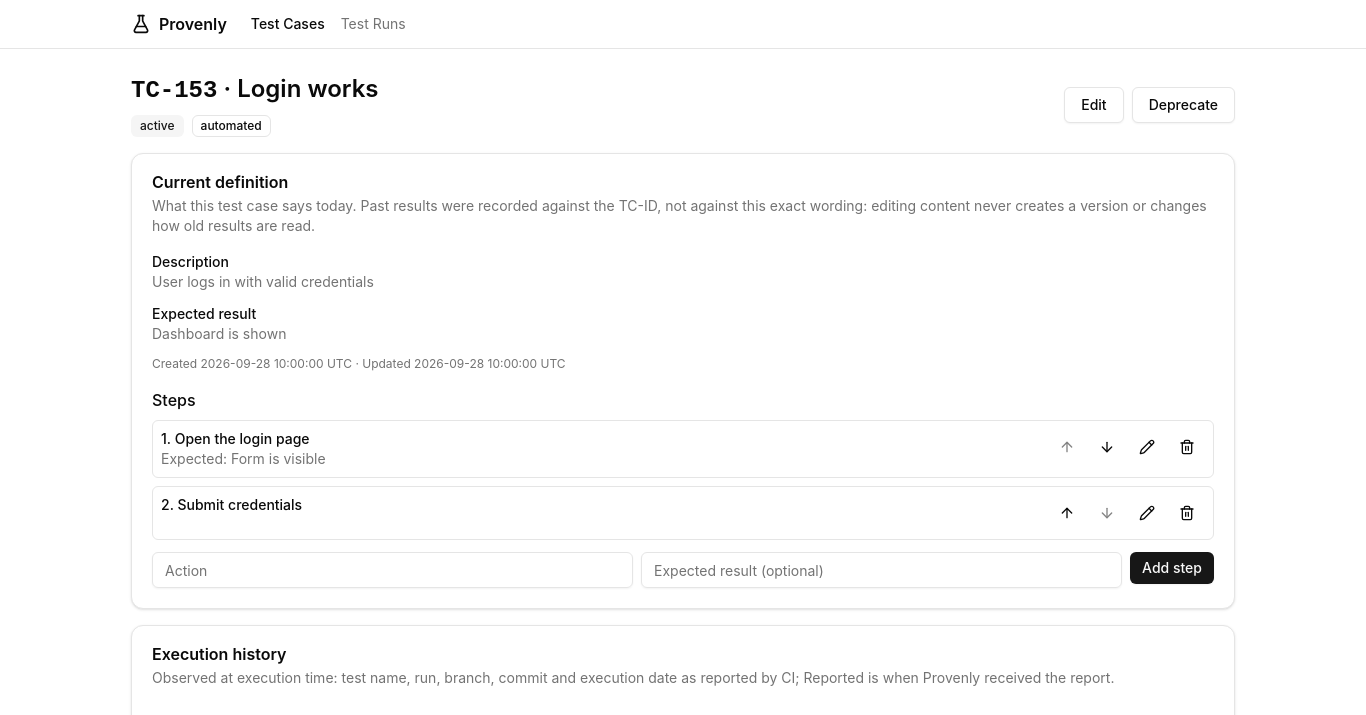
FE-INT-004 test case detail and edit › FE-INT-004 edits content without changing the TC-ID
Click the button "Edit": click(1094, 105) [1064,87,1124,123]
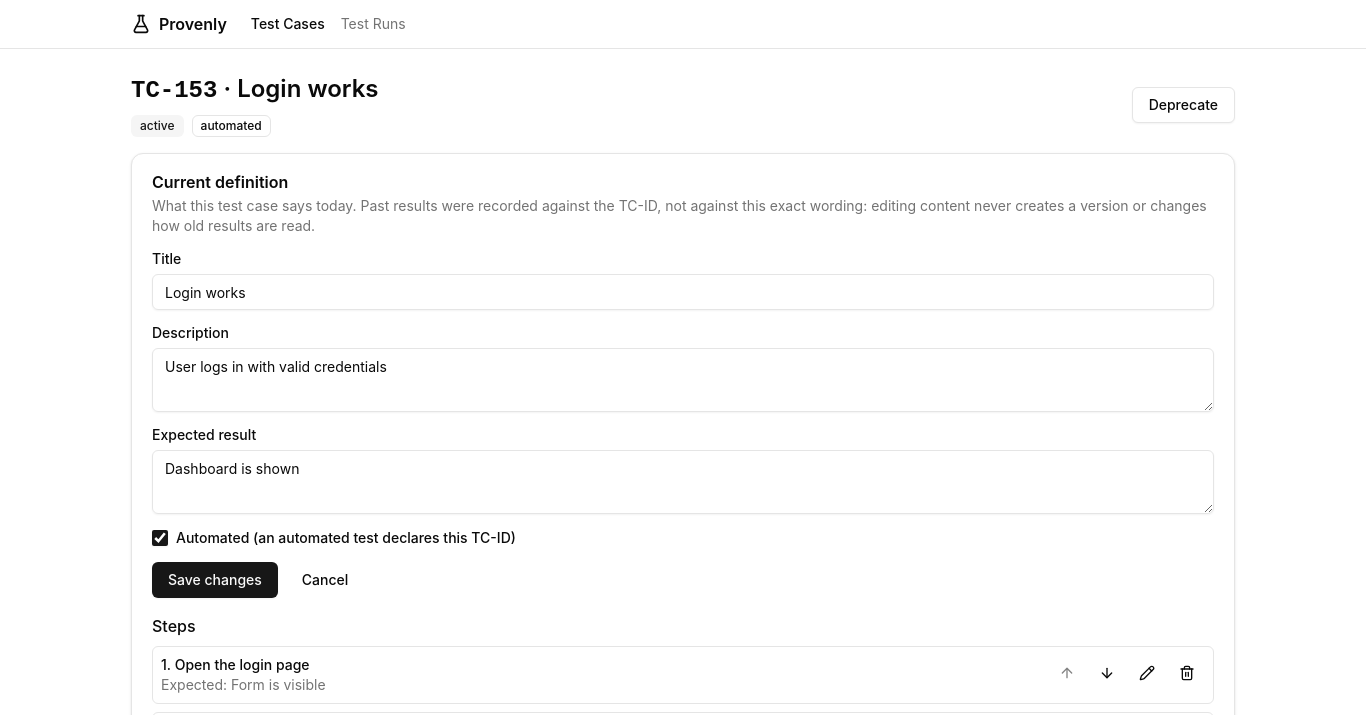
Replace the text in the field labelled "Title" with "Login v2": (683, 292) [152,274,1214,310]
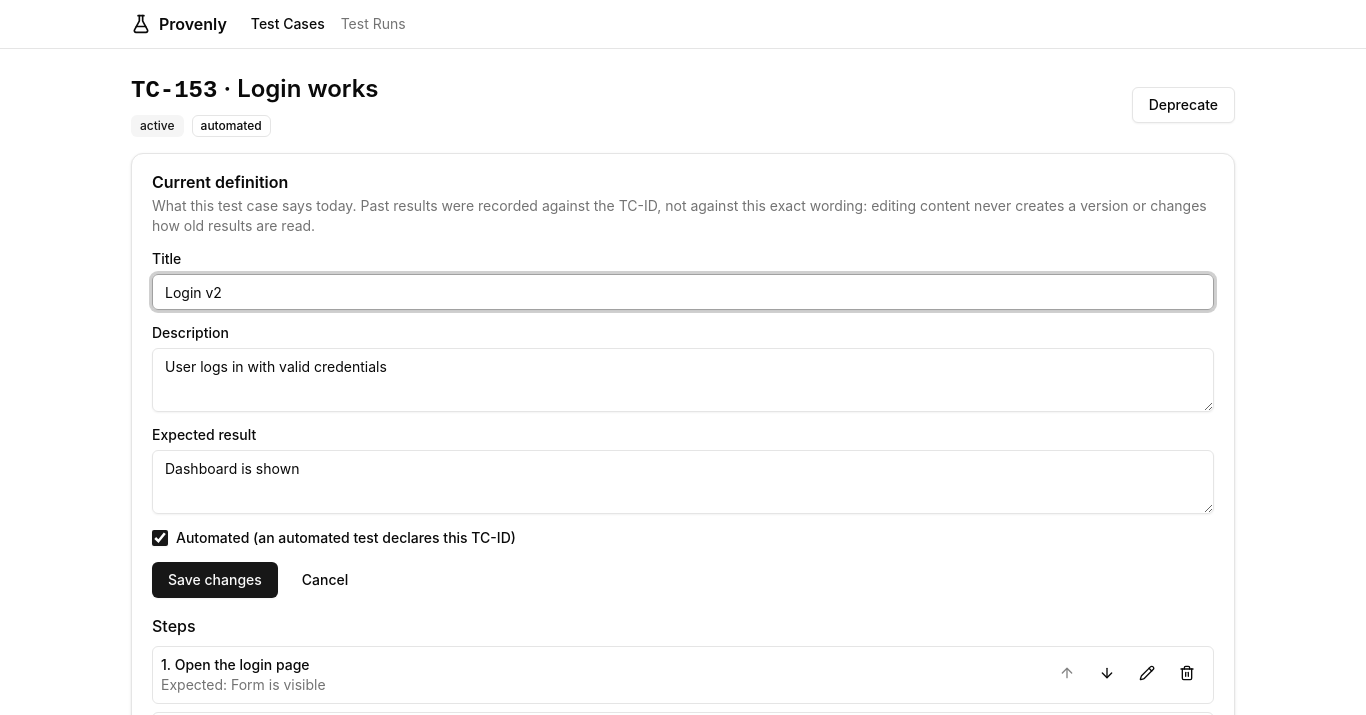
Click the checkbox labelled "Automated (an automated test declares this TC-ID)": click(160, 538) [152,530,168,546]
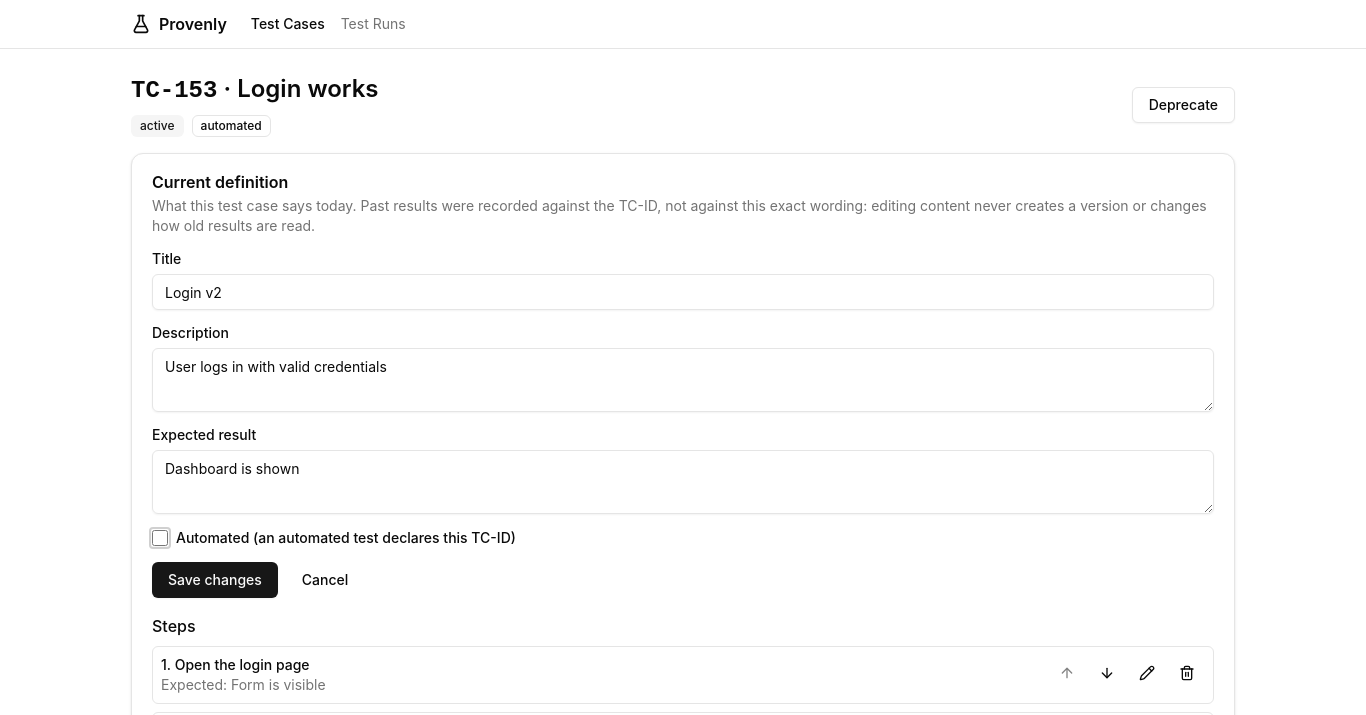
Click the button "Save changes": click(215, 580) [152,562,278,598]
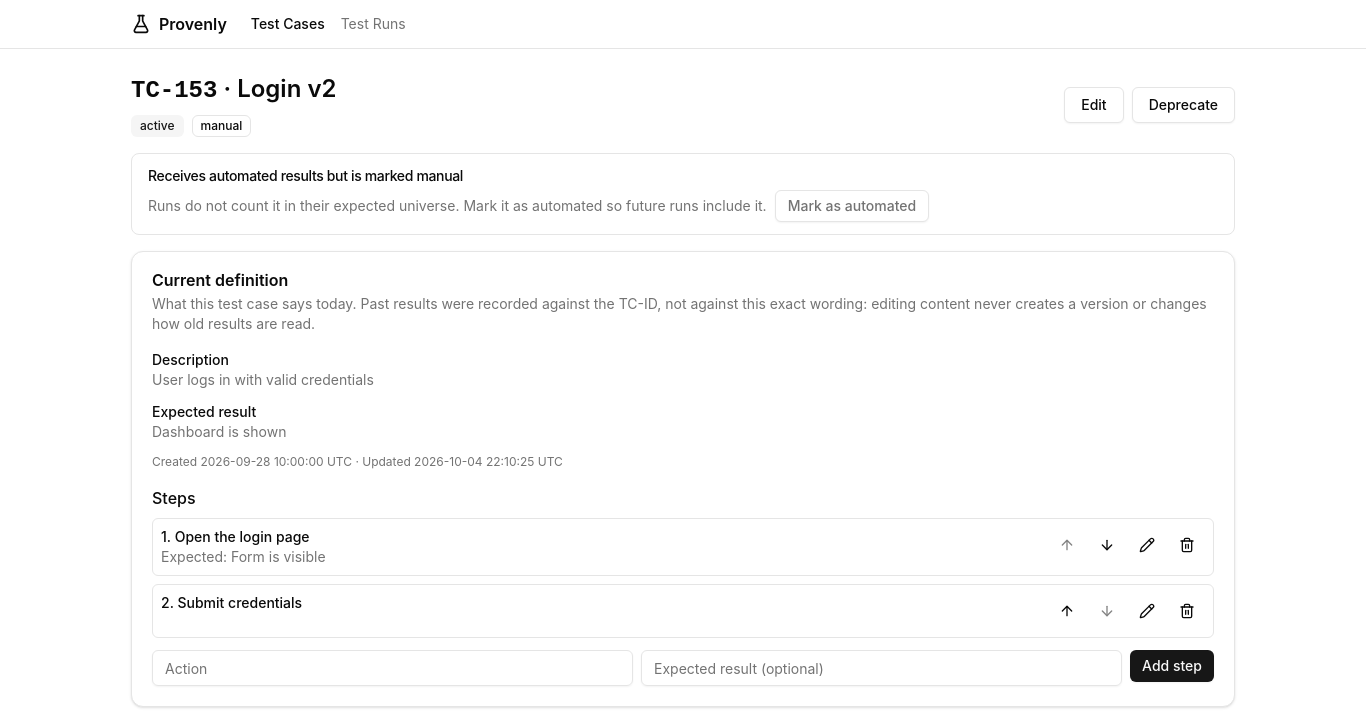
Expected: the heading "TC-153 · Login v2" is shown, [131,73,336,107]
Expected: the text "manual" is shown, [192,115,251,137]
